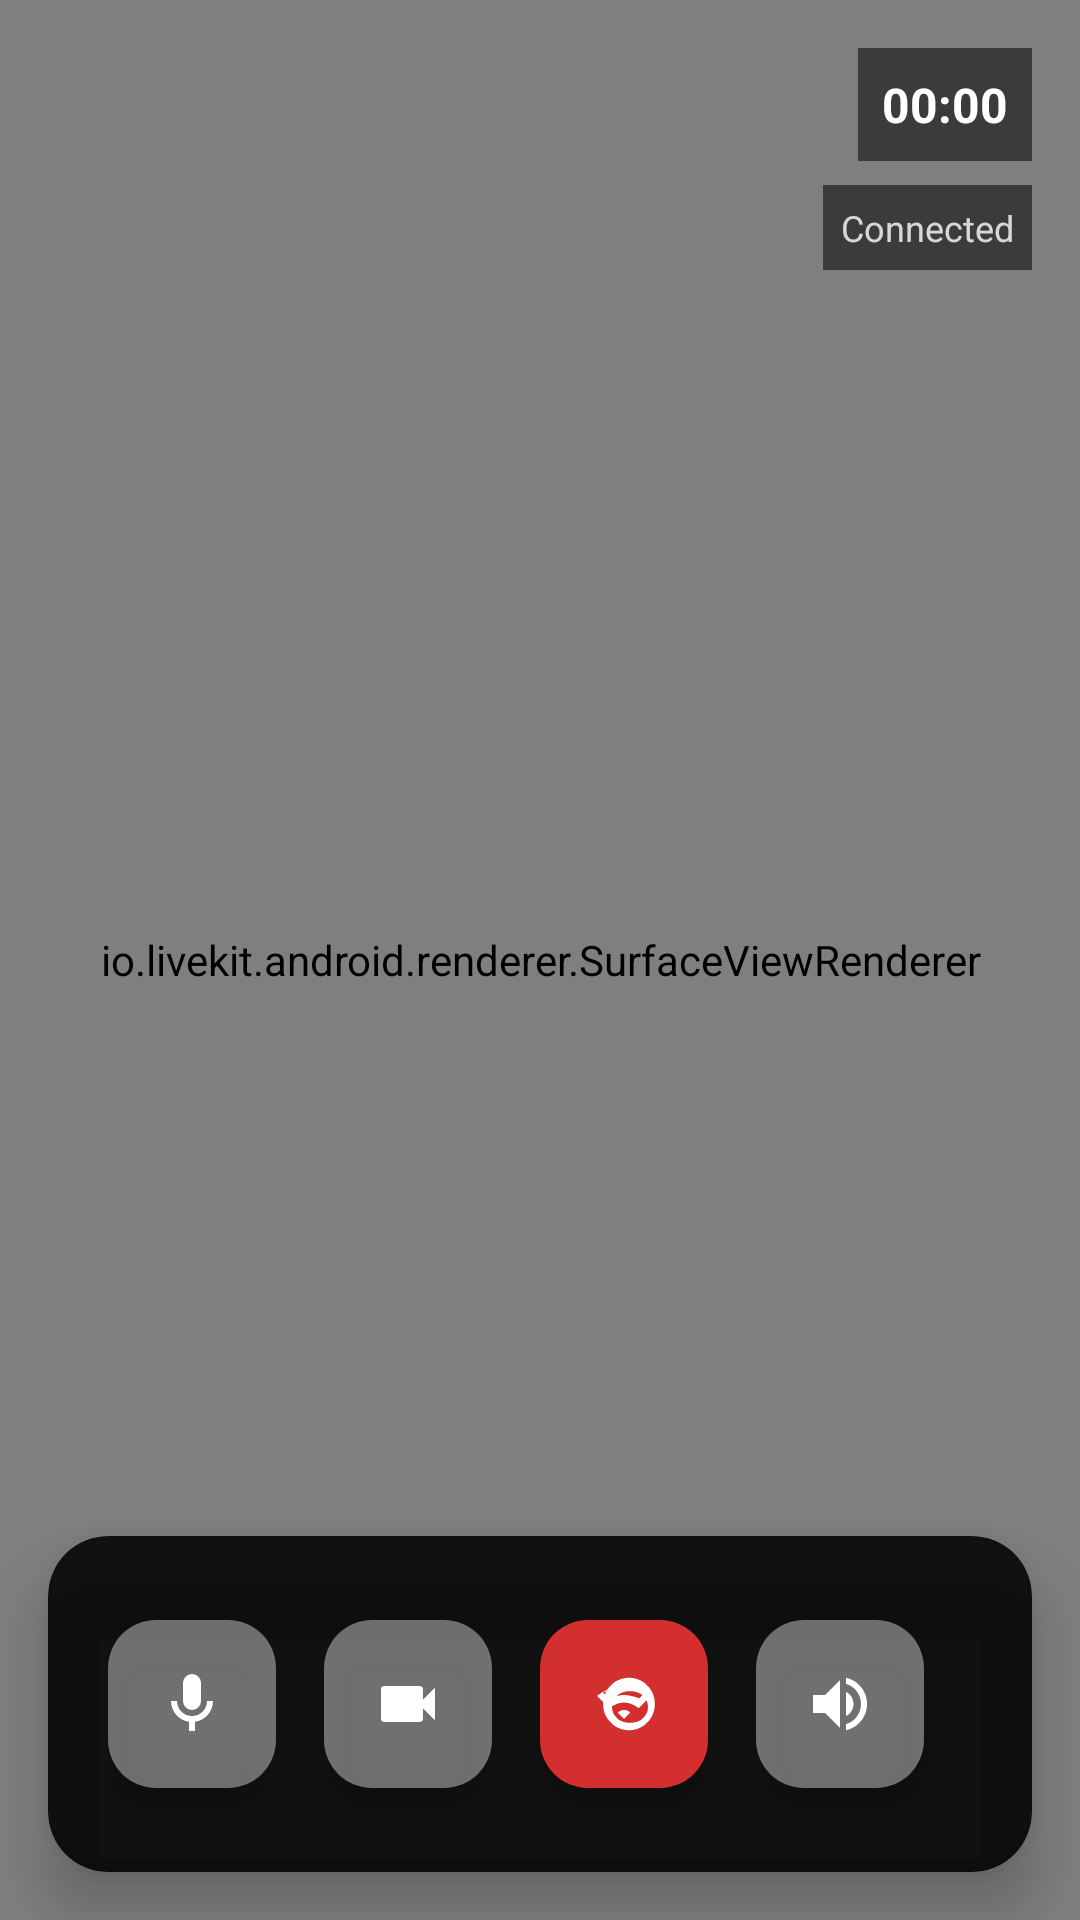

Icons on this 1080px x 1920px Android screen, each with the point to tap as [x,y]:
mic: [192,1704]
videocam: [408,1704]
volume up: [840,1704]
